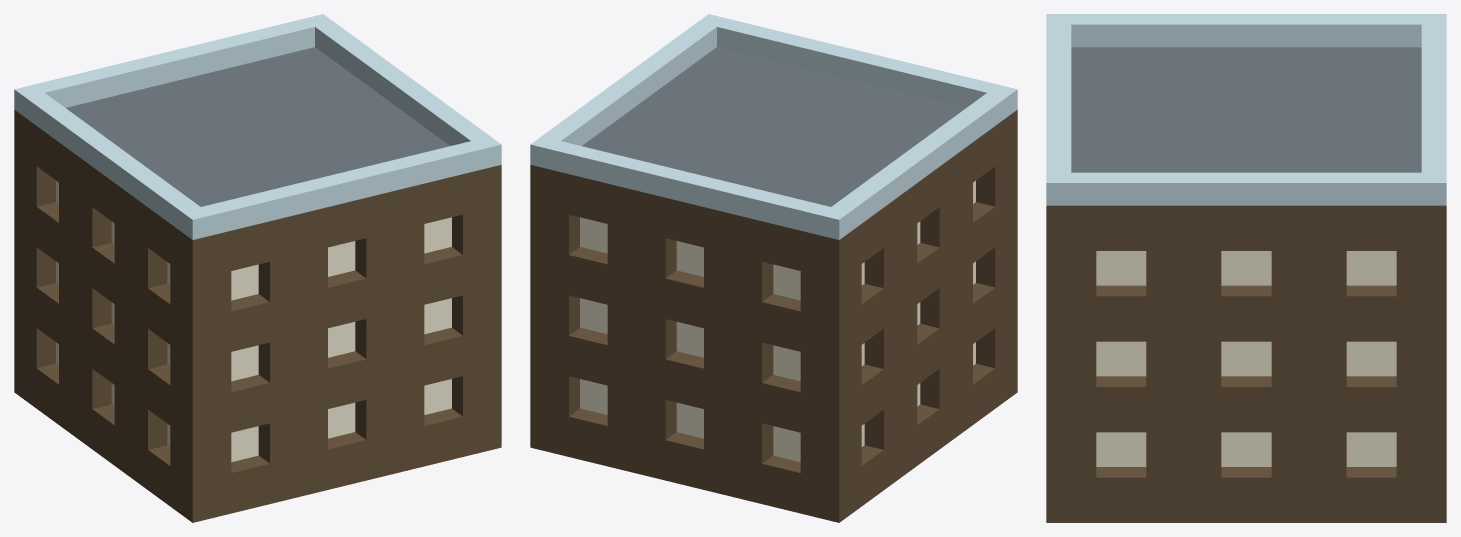
File: Building_2 (Brown).obj
3 renders of one model, left to right at view 1: azimuth 30°, elevation 25°; view 2: azimuth 150°, elevation 25°; view 3: azimuth 270°, elevation 25°, orthographic. The views are drawn at different scales.
Visible parts, largest first — view 1: Building_2_(Brown); view 2: Building_2_(Brown); view 3: Building_2_(Brown).
Boxes of the visible parts, x1,y1,x2,y2 form: Building_2_(Brown): (14,14,501,522); Building_2_(Brown): (530,14,1017,522); Building_2_(Brown): (1046,14,1446,522).
Size of the model in its own units: 1.6 by 1.5 by 1.6.
